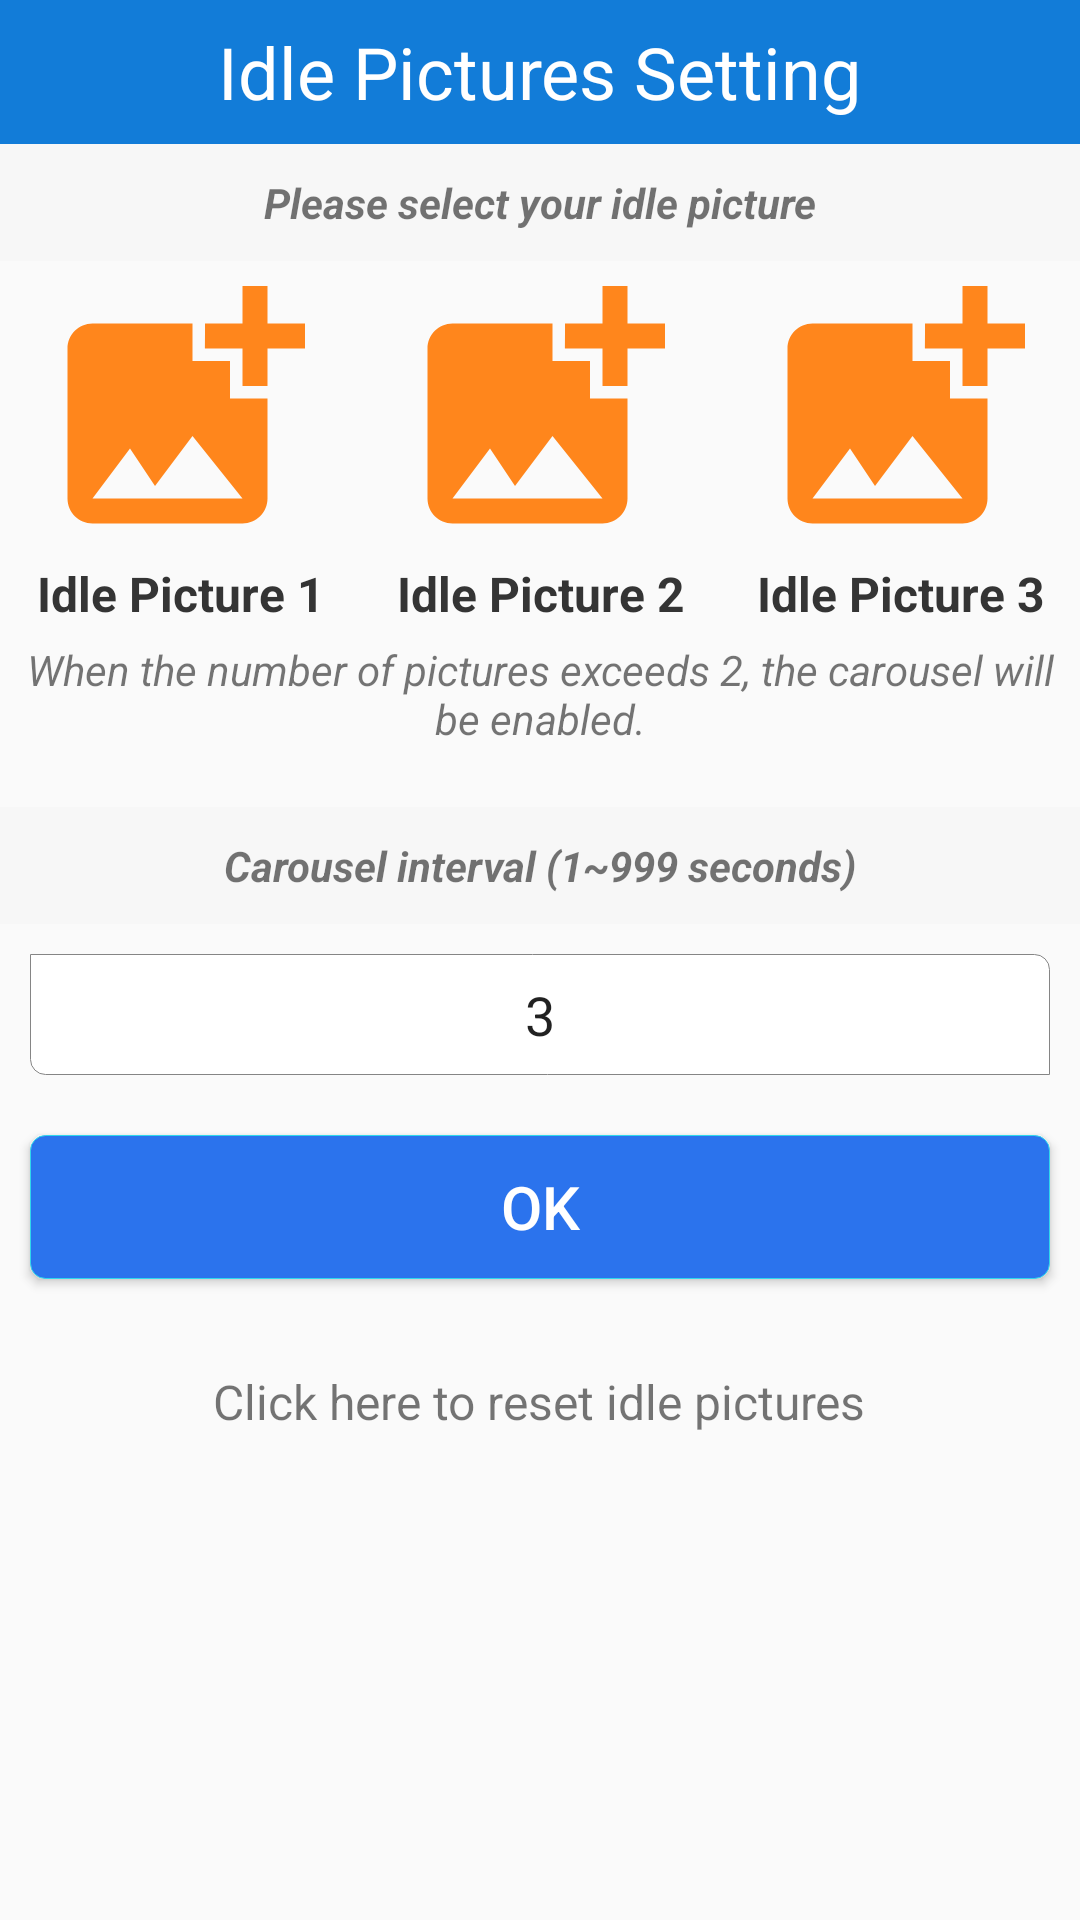

Icon bounding boxes for this 1080*1920 phone screenshot, format [x1,y1,x2,y2]:
add photo alternate: [67,286,305,524], [427,286,665,524], [787,286,1025,524]
